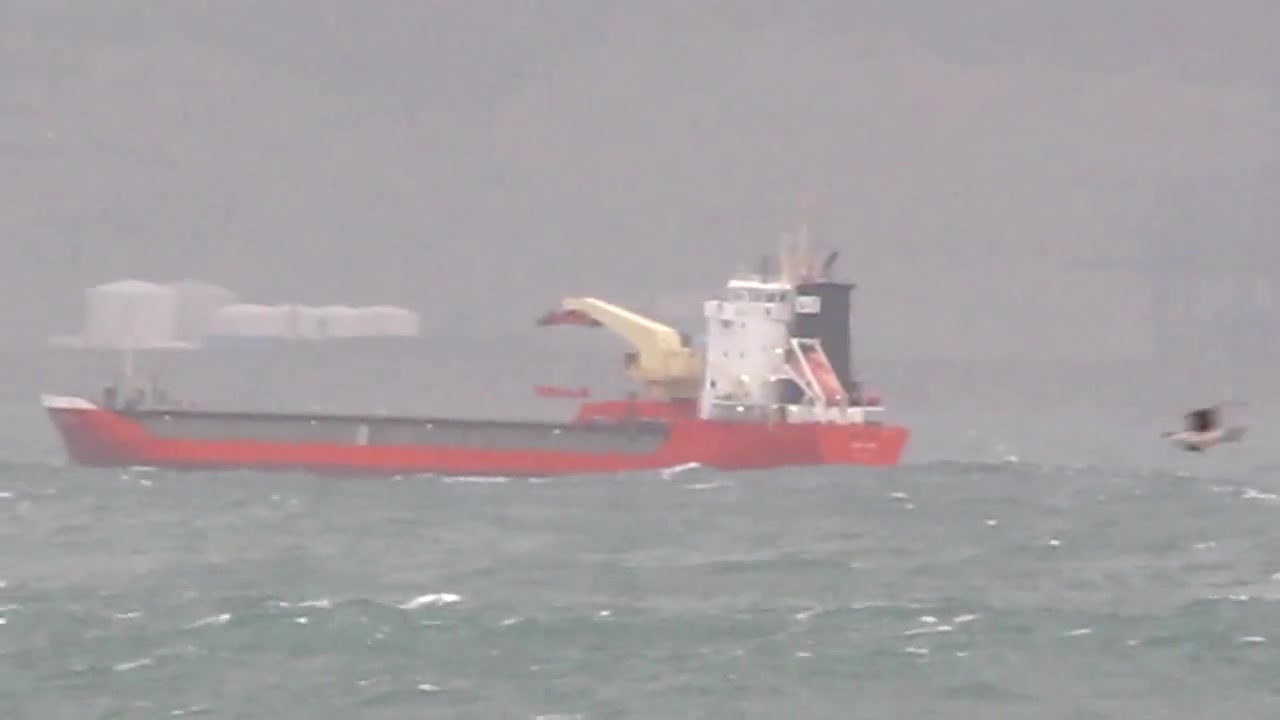boat: (43, 215, 918, 481)
